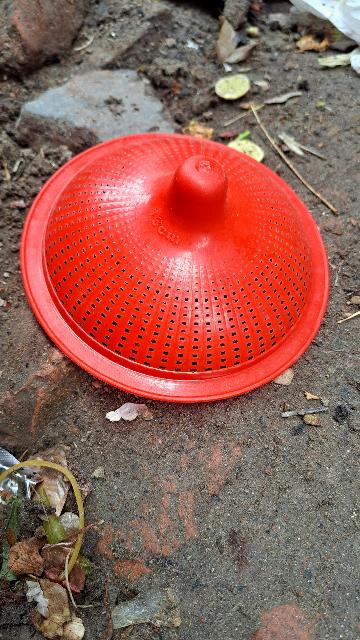hardplastic: (25, 128, 332, 402)
